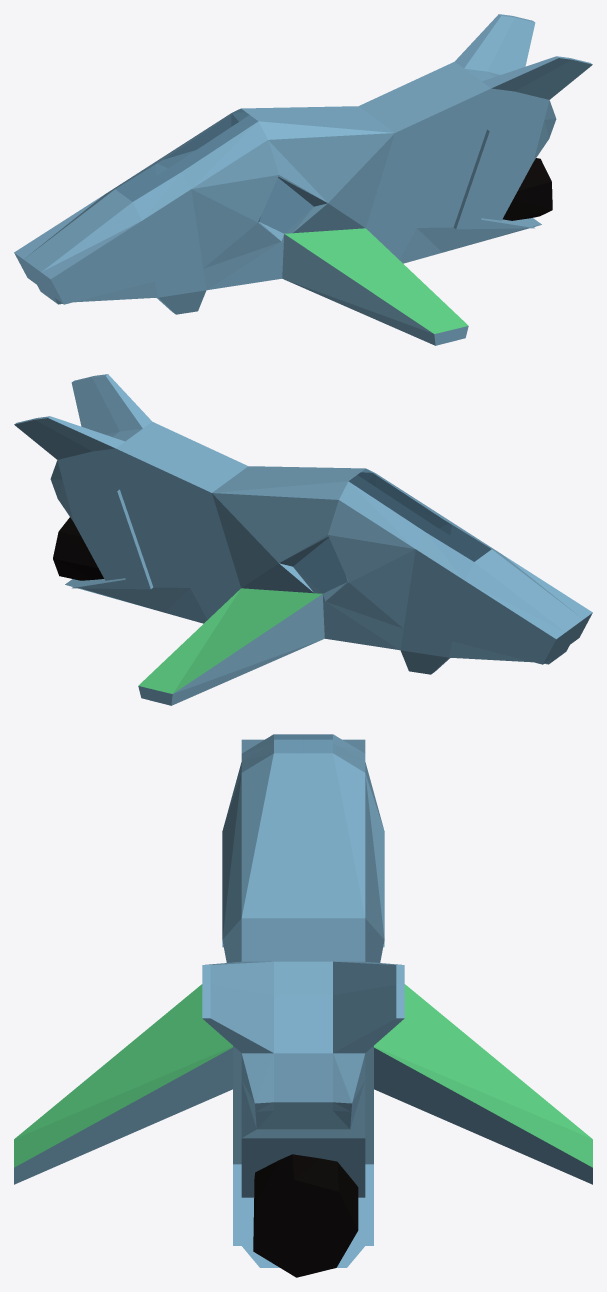
The model's file is spaceship_high2.obj.
3 views of the same model, one above another, from view 1: azimuth 30°, elevation 25°; view 2: azimuth 150°, elevation 25°; view 3: azimuth 270°, elevation 25° (orthographic). The views are drawn at different scales.
Parts seen in each view (by area): view 1: Plane, Cylinder; view 2: Plane, Cylinder; view 3: Plane, Cylinder.
Part boxes in pixels (left/top/right/bottom): Plane: left=14, top=14, right=592, bottom=345; Cylinder: left=502, top=158, right=552, bottom=220; Plane: left=14, top=374, right=592, bottom=705; Cylinder: left=53, top=517, right=103, bottom=580; Plane: left=14, top=734, right=592, bottom=1267; Cylinder: left=253, top=1154, right=358, bottom=1277.
Size of the model in its own units: 3.9 by 1.43 by 2.18.
